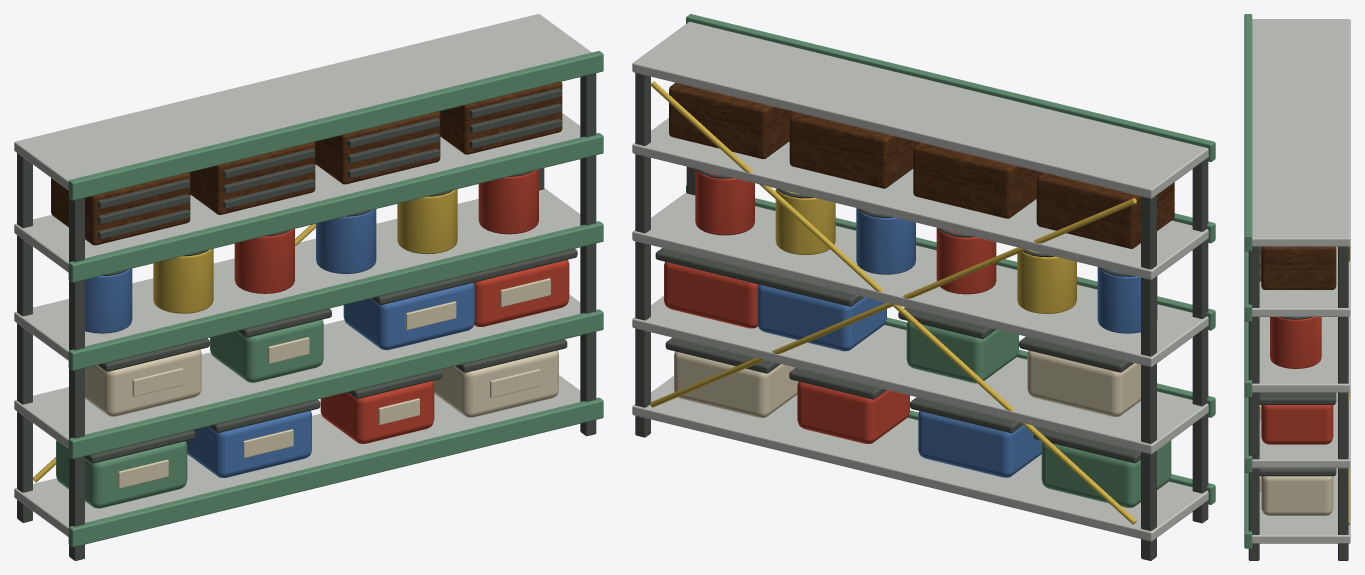
The model's file is miller_warehouse_shelf.glb.
The picture shows the model from 3 angles, left to right: view 1: azimuth 30°, elevation 25°; view 2: azimuth 150°, elevation 25°; view 3: azimuth 270°, elevation 25°; orthographic projection. The views are drawn at different scales.
Visible parts, largest first — view 1: miller_warehouse_shelf_miller_galvanized_steel_pbr, miller_warehouse_shelf_miller_forest_enamel_pbr, miller_warehouse_shelf_miller_blackened_steel_pbr, miller_warehouse_shelf_miller_aged_cream_enamel_pbr, miller_warehouse_shelf_miller_paint_blue_enamel_pbr, miller_warehouse_shelf_miller_worn_oak_pbr, miller_warehouse_shelf_miller_safety_red_enamel_pbr, miller_warehouse_shelf_miller_safety_yellow_enamel_pbr; view 2: miller_warehouse_shelf_miller_galvanized_steel_pbr, miller_warehouse_shelf_miller_blackened_steel_pbr, miller_warehouse_shelf_miller_worn_oak_pbr, miller_warehouse_shelf_miller_forest_enamel_pbr, miller_warehouse_shelf_miller_paint_blue_enamel_pbr, miller_warehouse_shelf_miller_safety_red_enamel_pbr, miller_warehouse_shelf_miller_safety_yellow_enamel_pbr, miller_warehouse_shelf_miller_aged_cream_enamel_pbr; view 3: miller_warehouse_shelf_miller_galvanized_steel_pbr, miller_warehouse_shelf_miller_blackened_steel_pbr, miller_warehouse_shelf_miller_safety_red_enamel_pbr, miller_warehouse_shelf_miller_forest_enamel_pbr, miller_warehouse_shelf_miller_worn_oak_pbr, miller_warehouse_shelf_miller_aged_cream_enamel_pbr, miller_warehouse_shelf_miller_safety_yellow_enamel_pbr.
Boxes of the visible parts, <box> form: miller_warehouse_shelf_miller_galvanized_steel_pbr: <box>14,14,591,536</box>; miller_warehouse_shelf_miller_forest_enamel_pbr: <box>56,51,603,547</box>; miller_warehouse_shelf_miller_blackened_steel_pbr: <box>17,73,596,560</box>; miller_warehouse_shelf_miller_aged_cream_enamel_pbr: <box>85,278,558,488</box>; miller_warehouse_shelf_miller_paint_blue_enamel_pbr: <box>85,209,474,477</box>; miller_warehouse_shelf_miller_worn_oak_pbr: <box>51,82,562,245</box>; miller_warehouse_shelf_miller_safety_red_enamel_pbr: <box>234,169,569,443</box>; miller_warehouse_shelf_miller_safety_yellow_enamel_pbr: <box>33,189,457,482</box>; miller_warehouse_shelf_miller_galvanized_steel_pbr: <box>632,21,1208,541</box>; miller_warehouse_shelf_miller_blackened_steel_pbr: <box>635,73,1208,560</box>; miller_warehouse_shelf_miller_worn_oak_pbr: <box>669,82,1174,248</box>; miller_warehouse_shelf_miller_forest_enamel_pbr: <box>686,14,1215,507</box>; miller_warehouse_shelf_miller_paint_blue_enamel_pbr: <box>757,208,1157,477</box>; miller_warehouse_shelf_miller_safety_red_enamel_pbr: <box>664,168,996,443</box>; miller_warehouse_shelf_miller_safety_yellow_enamel_pbr: <box>650,81,1136,524</box>; miller_warehouse_shelf_miller_aged_cream_enamel_pbr: <box>674,350,1140,418</box>; miller_warehouse_shelf_miller_galvanized_steel_pbr: <box>1252,19,1350,543</box>; miller_warehouse_shelf_miller_blackened_steel_pbr: <box>1248,246,1348,560</box>; miller_warehouse_shelf_miller_safety_red_enamel_pbr: <box>1261,317,1333,444</box>; miller_warehouse_shelf_miller_forest_enamel_pbr: <box>1244,14,1252,548</box>; miller_warehouse_shelf_miller_worn_oak_pbr: <box>1261,246,1336,289</box>; miller_warehouse_shelf_miller_aged_cream_enamel_pbr: <box>1259,405,1333,515</box>; miller_warehouse_shelf_miller_safety_yellow_enamel_pbr: <box>1348,246,1350,524</box>.
Bounding box in the file's own units: 3.66 × 2.51 × 0.7375.
8 materials, 1 textured.
